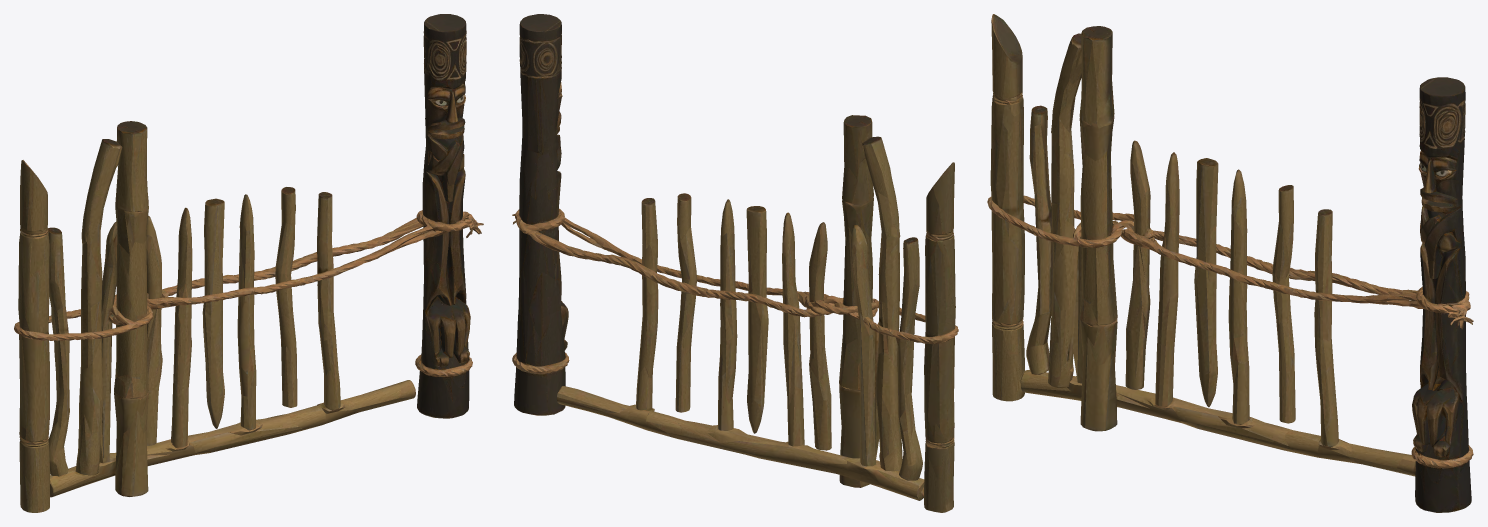
Rendered from palisade.glb.
3 views of the same model, side by side, from view 1: azimuth 30°, elevation 25°; view 2: azimuth 150°, elevation 25°; view 3: azimuth 330°, elevation 25° (orthographic). The views are drawn at different scales.
Parts seen in each view (by area): view 1: mesh_node; view 2: mesh_node; view 3: mesh_node.
Boxes of the visible parts, x1,y1,x2,y2 form: mesh_node: [14, 14, 483, 512]; mesh_node: [512, 14, 958, 512]; mesh_node: [987, 14, 1473, 512].
Bounding box in the file's own units: 1.9 × 1.55 × 0.227.
Materials: 1 (1 with a texture image).
